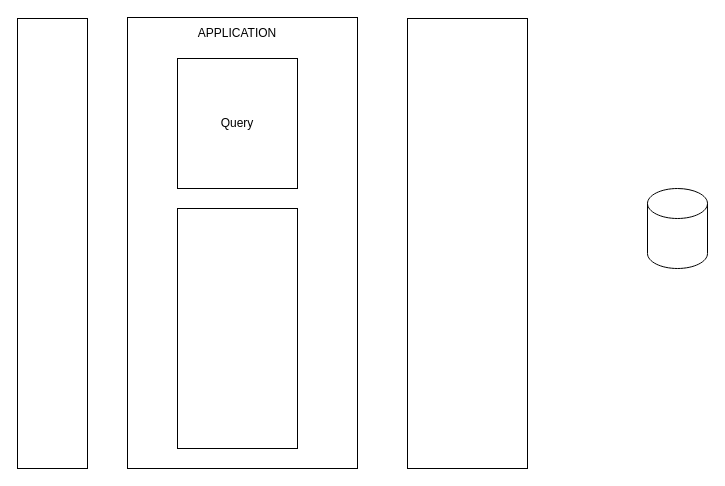
This 725x486 diagram has some shape labels left out. Each missing label, with the centre of its shape:
"API" goes at point 52,243.
"Commands" goes at point 237,328.
